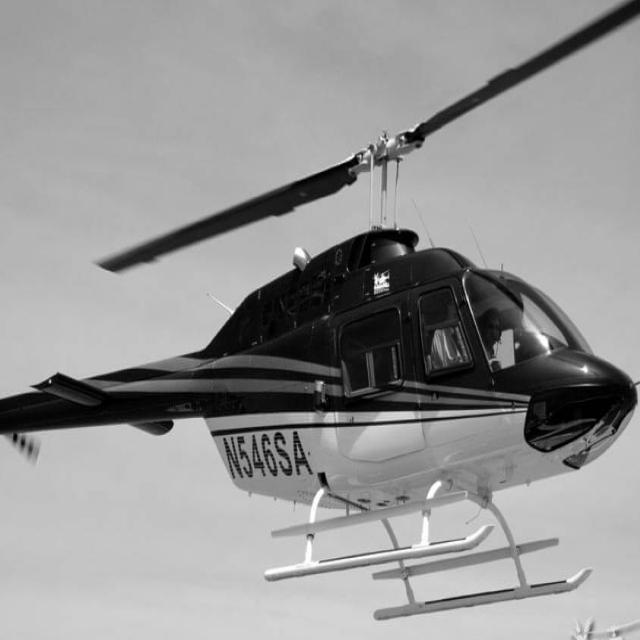helicopter: (1, 1, 640, 617)
